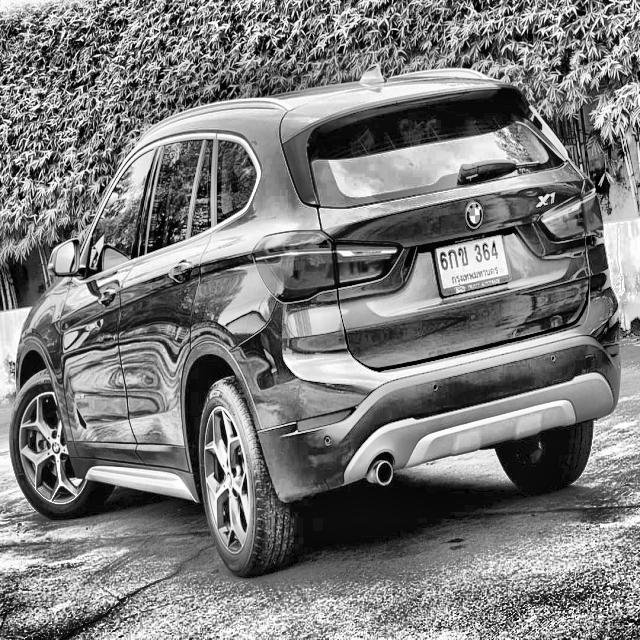license-plate: (425, 231, 513, 300)
